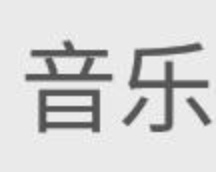TextView: (1, 1, 215, 171)
